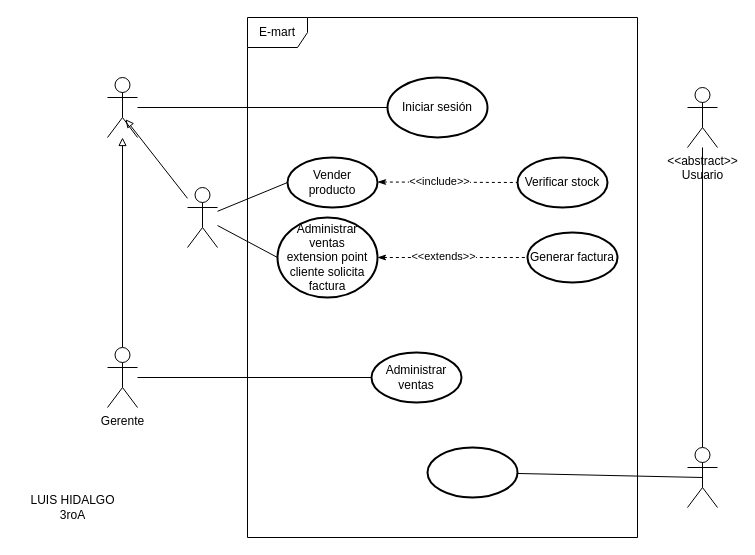
This 755x555 diagram has some shape labels left out. The shapes that lost their labels are listed below. From the top down, each one's centre as x and y in pixels, then its label:
At [122,107]: "<<abstract>>".
At [202,217]: "Vendedor".
At [472,472]: "<<CRUD>> Gestiona Productos".
At [702,477]: "Bodeguero".
